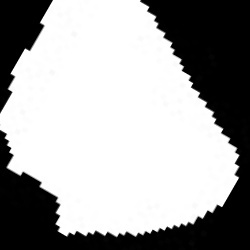spot: (1, 1, 239, 237)
